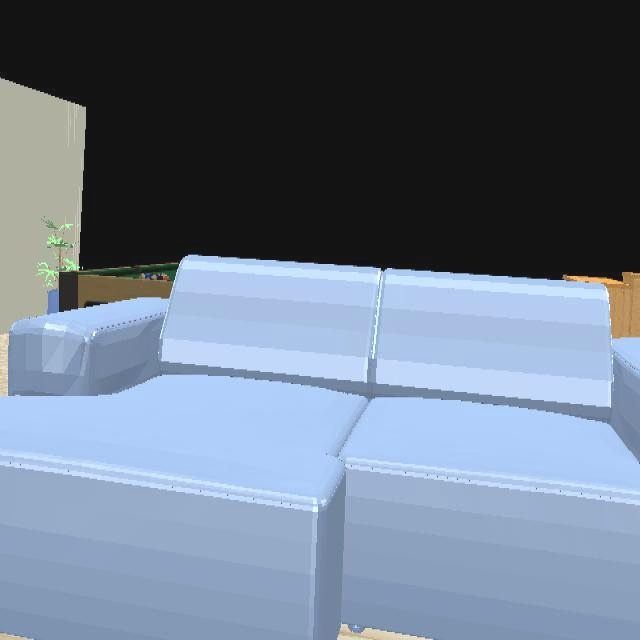sofa: (0, 256, 640, 640)
